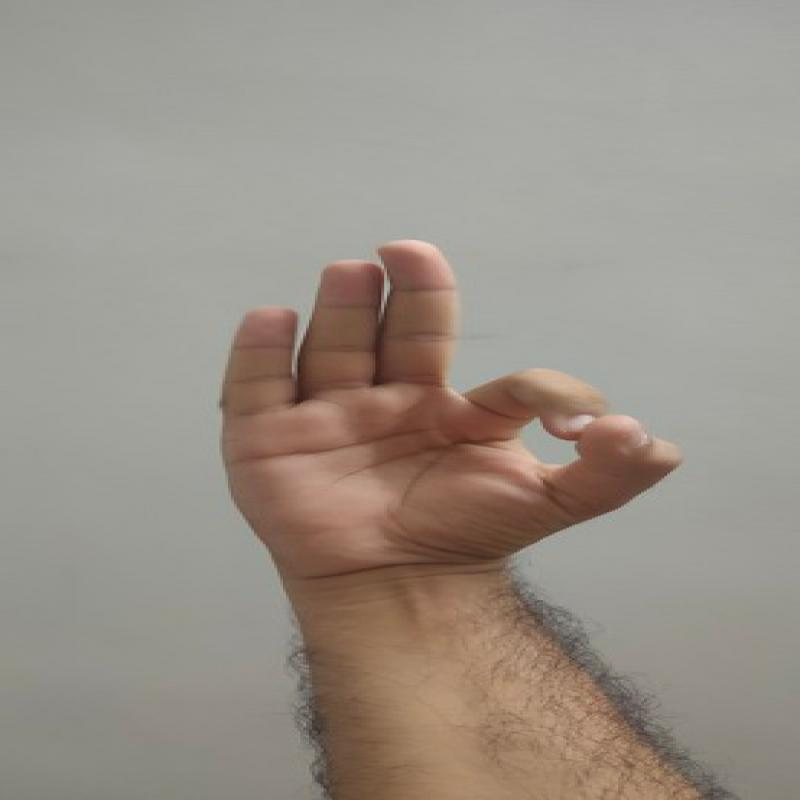Mudraakhyam: (200, 228, 690, 590)
